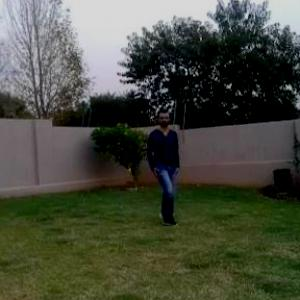follow: (149, 109, 182, 222)
